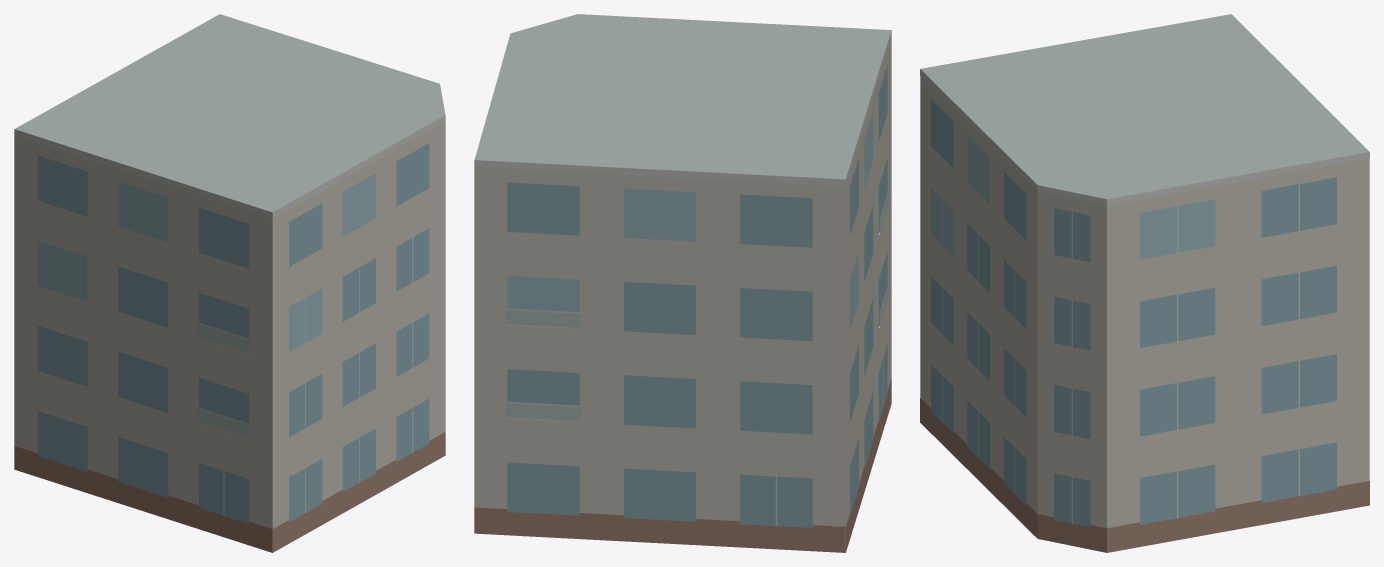
The model's file is survey-upis-32961426.glb.
3 views of the same model, side by side, from view 1: azimuth 30°, elevation 25°; view 2: azimuth 150°, elevation 25°; view 3: azimuth 270°, elevation 25° (orthographic). The views are drawn at different scales.
Parts seen in each view (by area): view 1: survey-upis-32961426.tmp; view 2: survey-upis-32961426.tmp; view 3: survey-upis-32961426.tmp.
Boxes of the visible parts, bbox=[...] form: survey-upis-32961426.tmp: bbox=[14, 14, 445, 552]; survey-upis-32961426.tmp: bbox=[474, 14, 891, 552]; survey-upis-32961426.tmp: bbox=[920, 14, 1369, 552].
Size of the model in its own units: 14.73 by 13.1 by 15.11.
